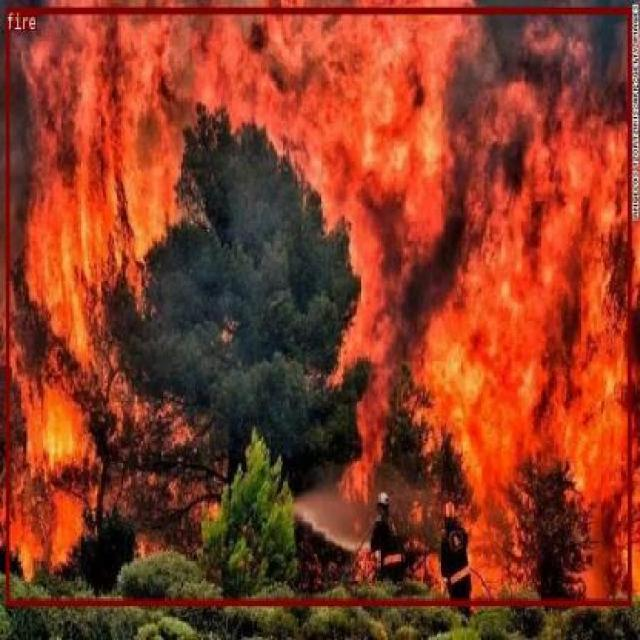Fire: (5, 7, 630, 604)
